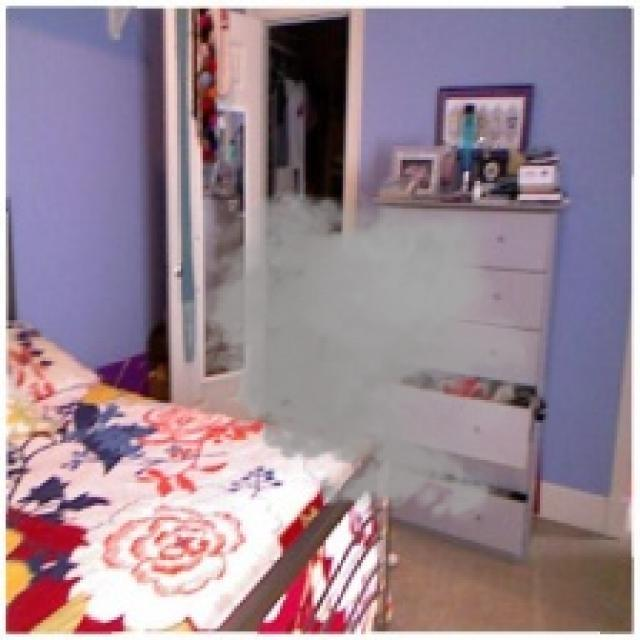Smoke: (186, 180, 548, 529)
